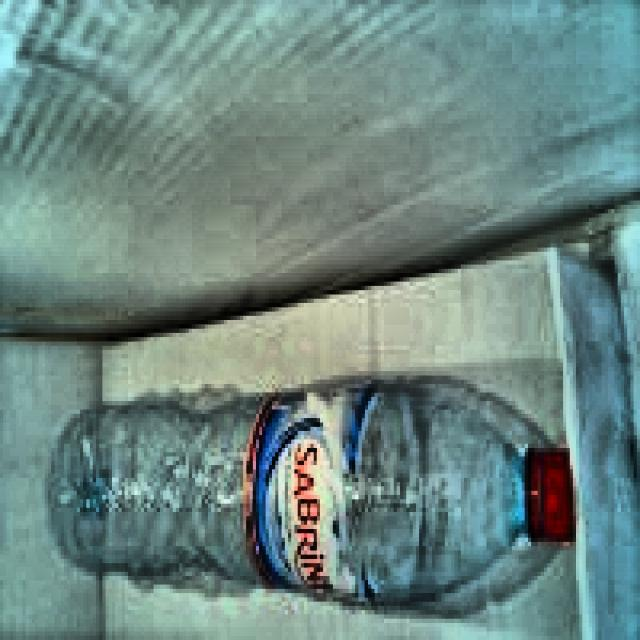plastic bottle: (54, 380, 574, 604)
